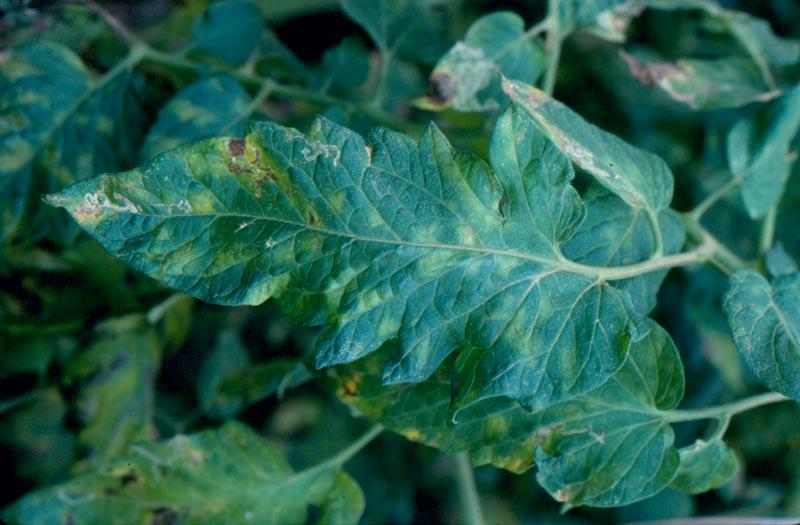Tomato mold leaf: (36, 110, 653, 418)
